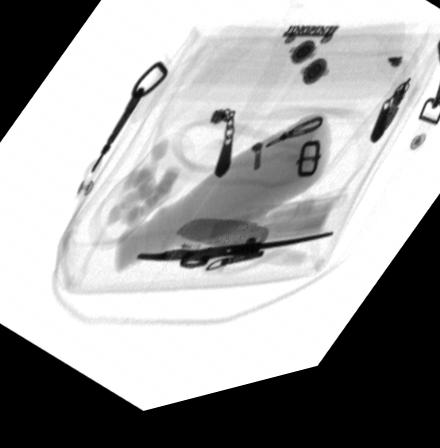Knife: (173, 228, 269, 266)
Scissors: (135, 248, 333, 270)
